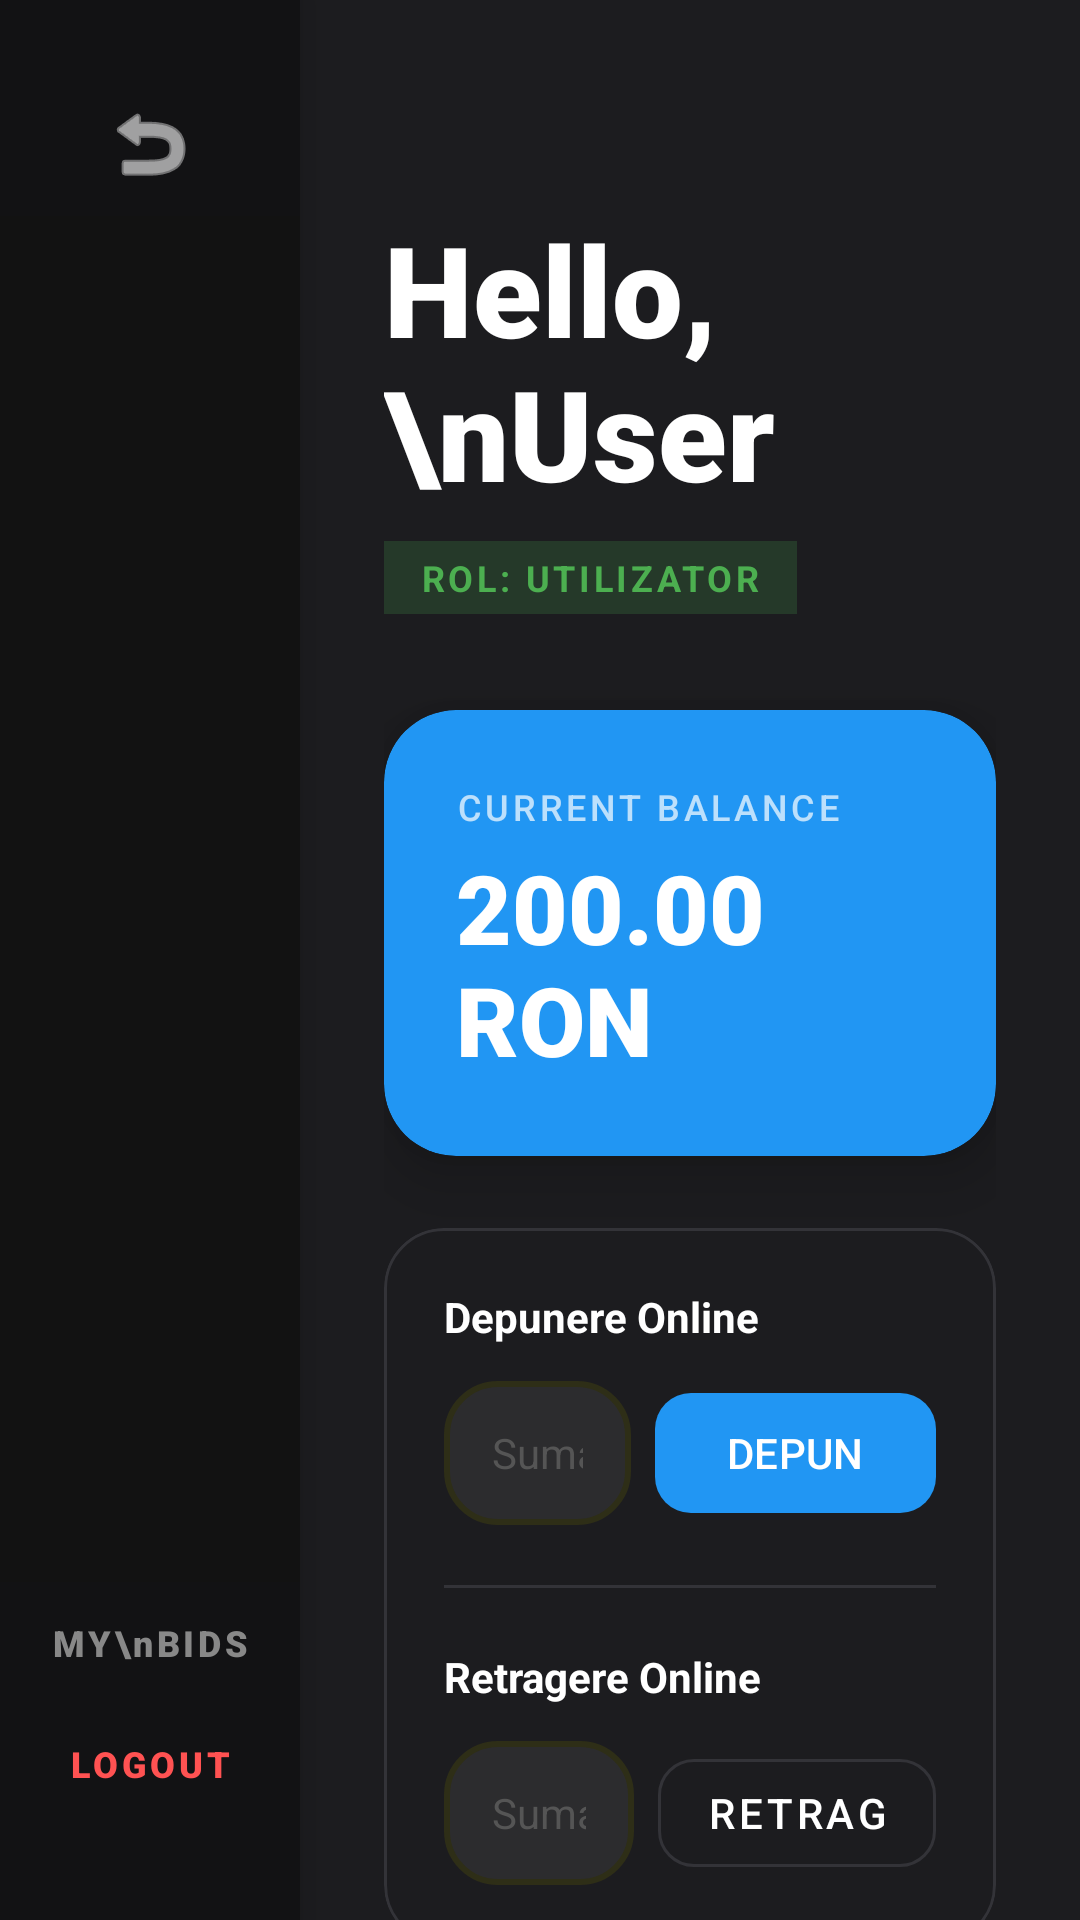

Named icons in this screenshot (1080w x 1920h) and their centers, (x,y):
Inapoi: (151,144)
